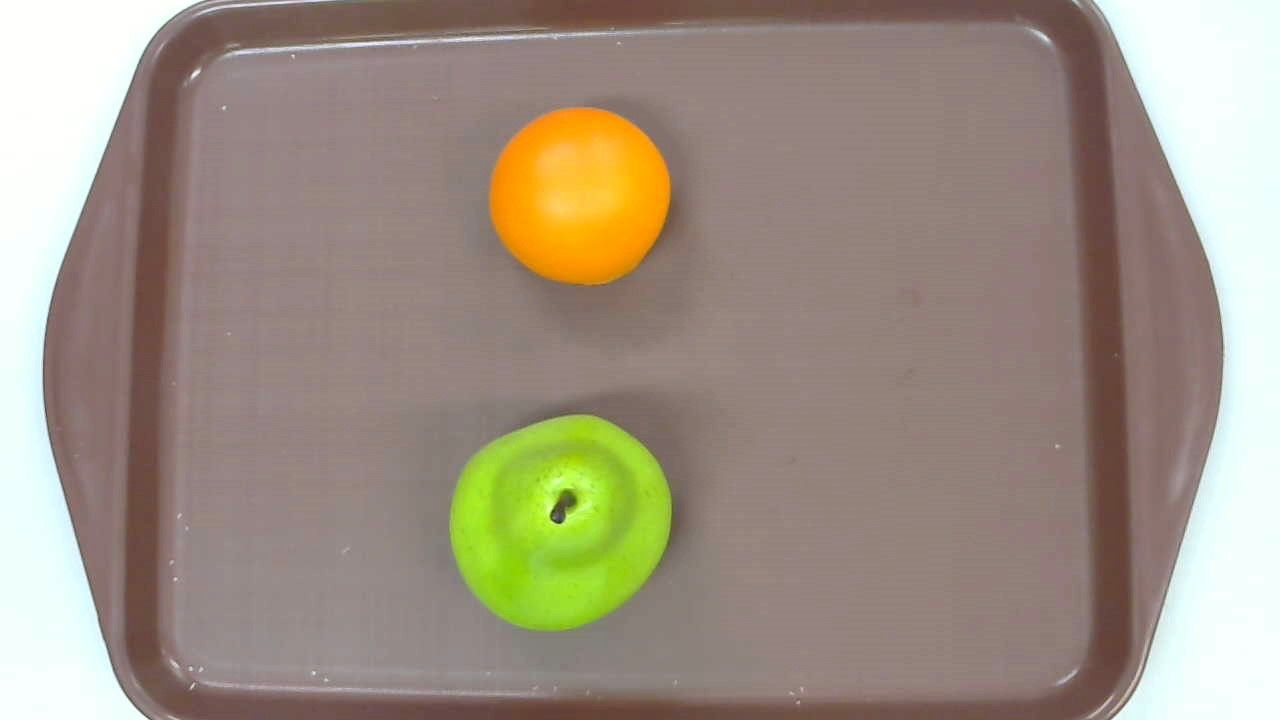bun: (488, 107, 672, 286)
green pear: (448, 412, 673, 630)
